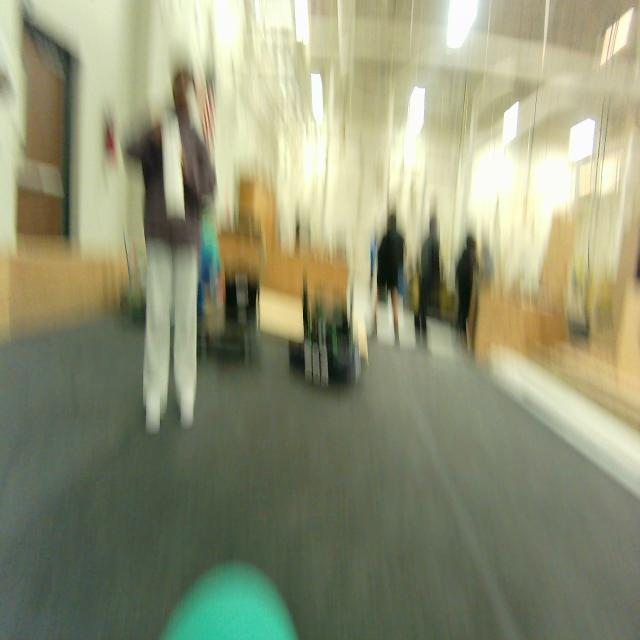coral: (159, 109, 188, 225)
